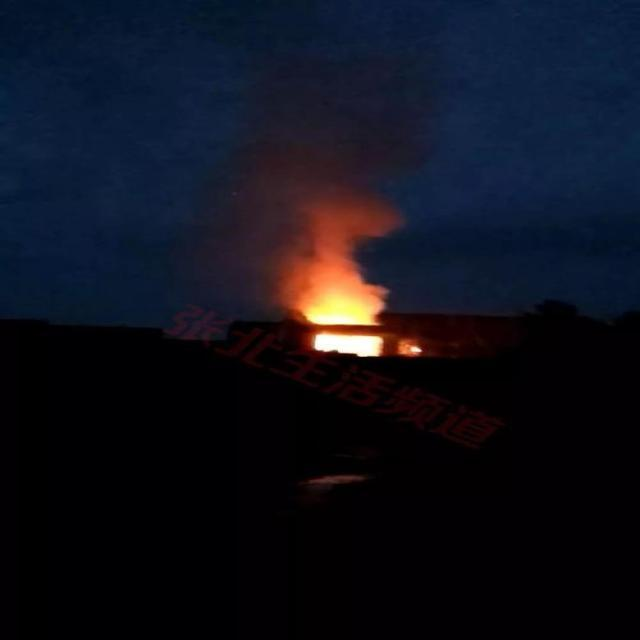Fire: (298, 288, 386, 360), (396, 337, 424, 357)
Smoke: (212, 132, 408, 310)
